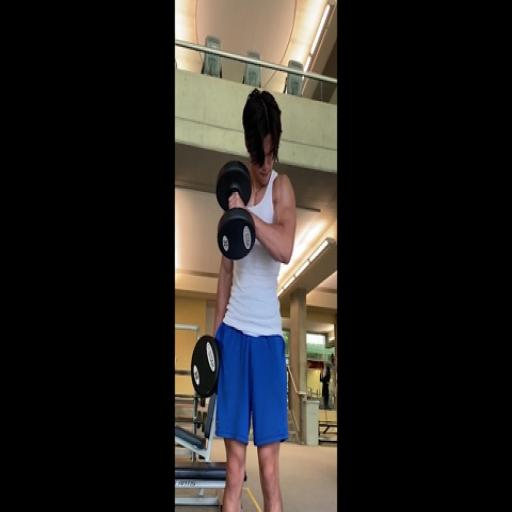exercise: (209, 86, 300, 510)
